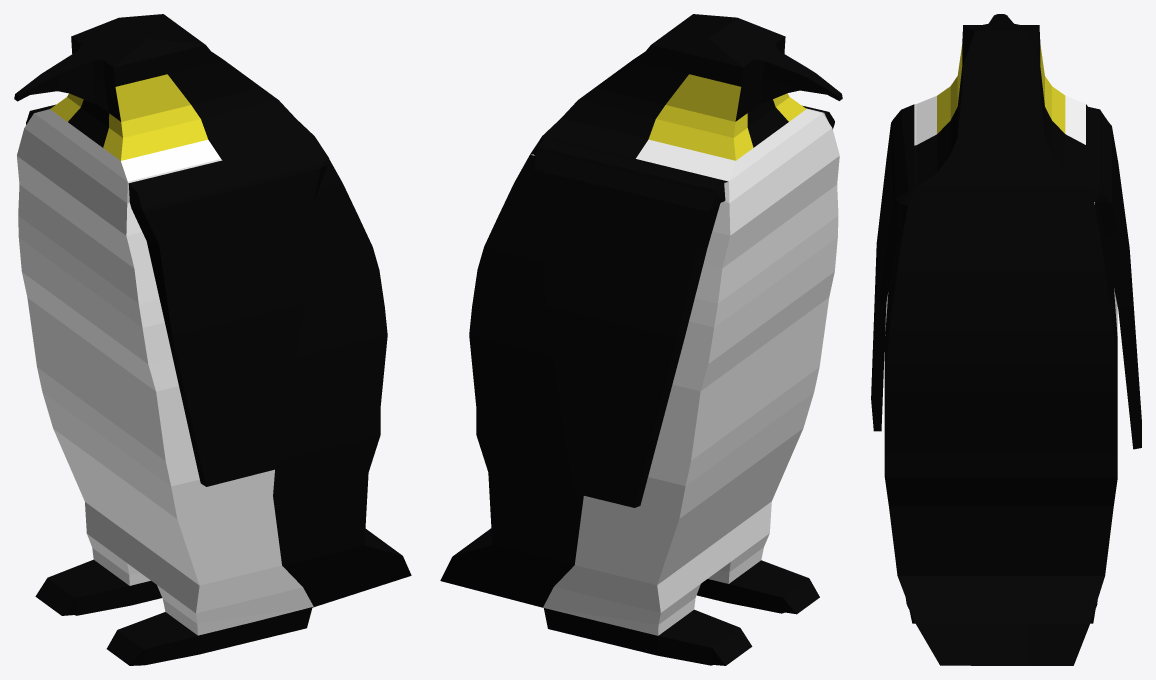
The model's file is PenguinForward.fbx.
The picture shows the model from 3 angles, left to right: view 1: azimuth 30°, elevation 25°; view 2: azimuth 150°, elevation 25°; view 3: azimuth 270°, elevation 25°; orthographic projection. The views are drawn at different scales.
Visible parts, largest first — view 1: Cube; view 2: Cube; view 3: Cube.
Boxes of the visible parts, x1=… form: Cube: x1=14, y1=14, x2=411, y2=665; Cube: x1=440, y1=14, x2=842, y2=665; Cube: x1=871, y1=14, x2=1141, y2=665.
Size of the model in its own units: 73.52 by 115 by 52.62.
